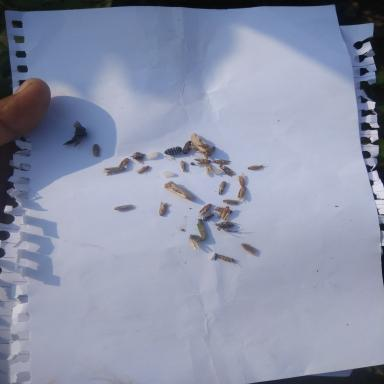abw: (216, 206, 234, 221), (101, 166, 128, 176), (240, 242, 259, 255), (235, 173, 248, 187), (192, 157, 212, 166), (188, 236, 202, 248), (202, 163, 214, 176), (222, 198, 240, 206)
pbw: (155, 200, 170, 216), (112, 202, 136, 212), (218, 254, 237, 266), (196, 202, 212, 216), (216, 180, 230, 195), (220, 164, 236, 176), (89, 143, 102, 157), (177, 159, 189, 173), (118, 156, 132, 168), (213, 158, 232, 166), (245, 164, 266, 171), (238, 186, 248, 200), (136, 165, 151, 174)
